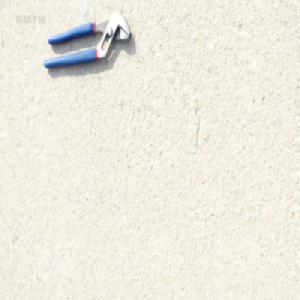Pliers: (42, 12, 130, 70)
